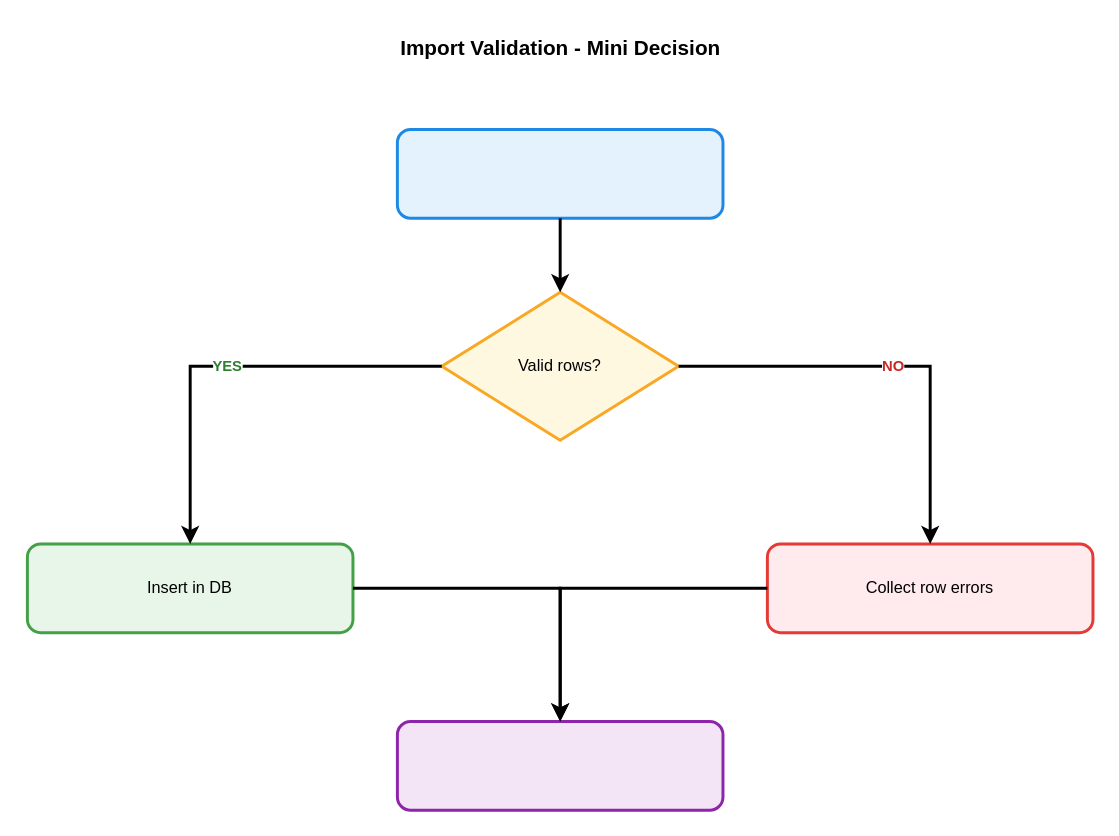
Image size: 1119x836. Some labels were removed from this diagram. The centre of each missing label's shape, as x and y in pixels:
"Read Excel rows" goes at point (559, 173).
"Return summary JSON" goes at point (559, 765).
